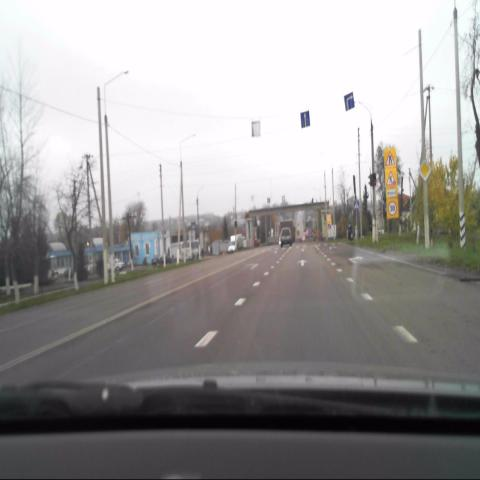1_20_2: (384, 148, 396, 167)
1_25: (386, 169, 396, 188)
2_1: (418, 159, 432, 182)
3_24: (386, 202, 398, 220)
5_15_2: (344, 92, 355, 110), (300, 112, 310, 129)
